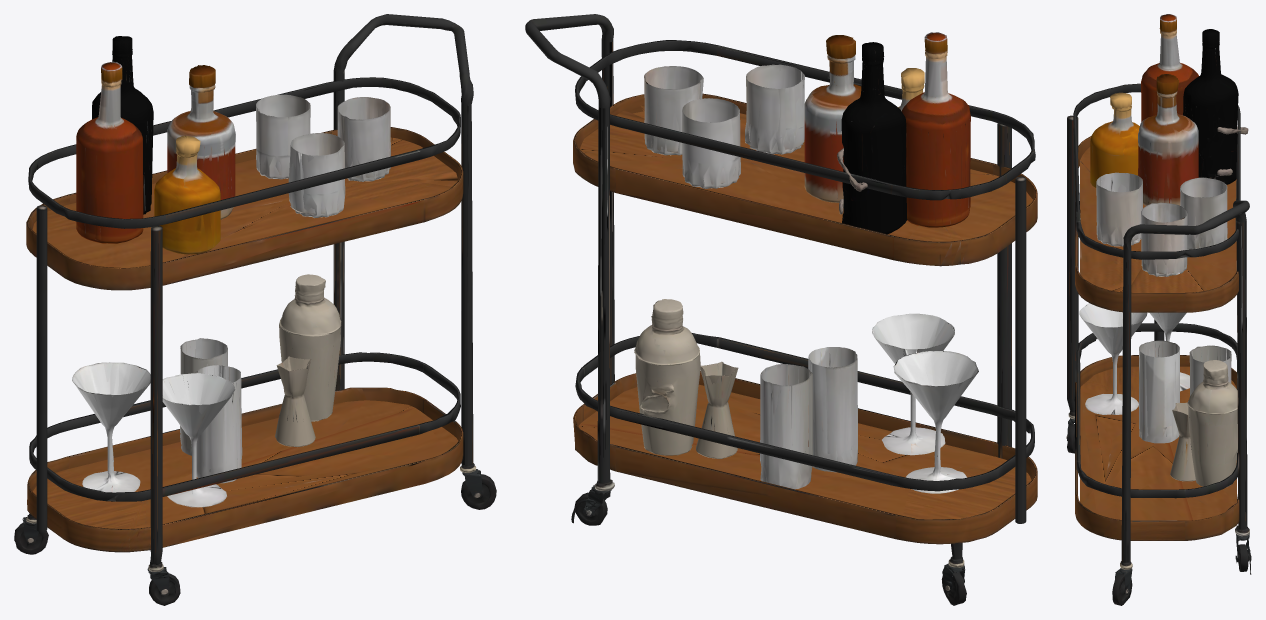
File: desktop.glb
The picture shows the model from 3 angles, left to right: view 1: azimuth 30°, elevation 25°; view 2: azimuth 150°, elevation 25°; view 3: azimuth 270°, elevation 25°; orthographic projection. The views are drawn at different scales.
Parts seen in each view (by area): view 1: barcart; view 2: barcart; view 3: barcart.
Boxes of the visible parts, left/top/right/bottom form: barcart: left=14, top=14, right=496, bottom=605; barcart: left=525, top=14, right=1037, bottom=605; barcart: left=1066, top=14, right=1251, bottom=605.
Bounding box in the file's own units: 0.7503 × 0.8125 × 0.3091.
1 material, 1 textured.
